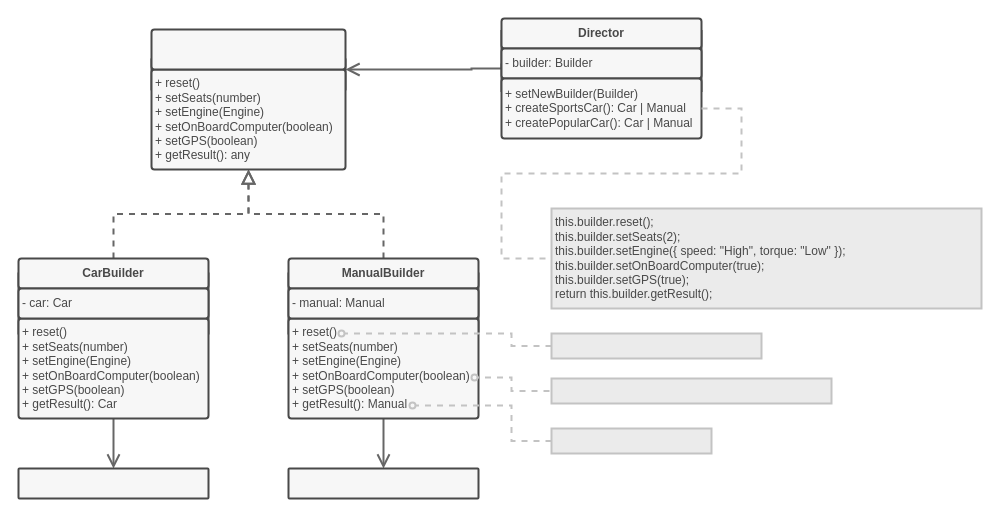
Image size: 999x516. Some labels were removed from this diagram. Here are the shapes that lost their labels. From the top down, the centre of each, then its label:
At (248,49): "<<interface>> Builder".
At (656,345): "this.manual = new Manual();".
At (691,390): "this.manual!.onBoardComputer = value;".
At (631,440): "return this.manual!;".
At (113,483): "Car".
At (383,483): "Manual".
